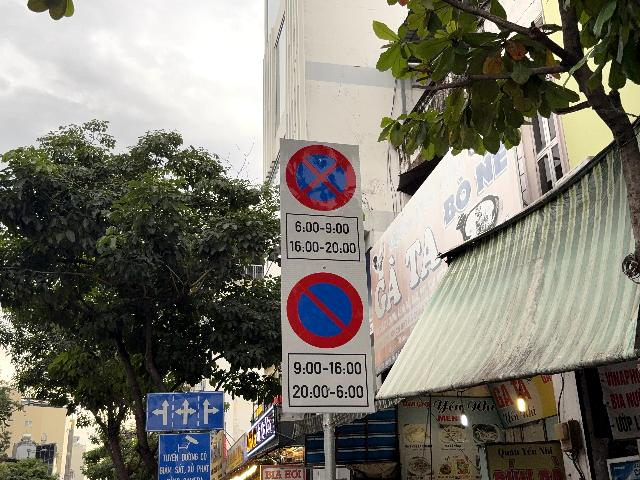cam-do-xe: (286, 272, 364, 348)
cam-dung-va-do-xe: (286, 144, 357, 211)
